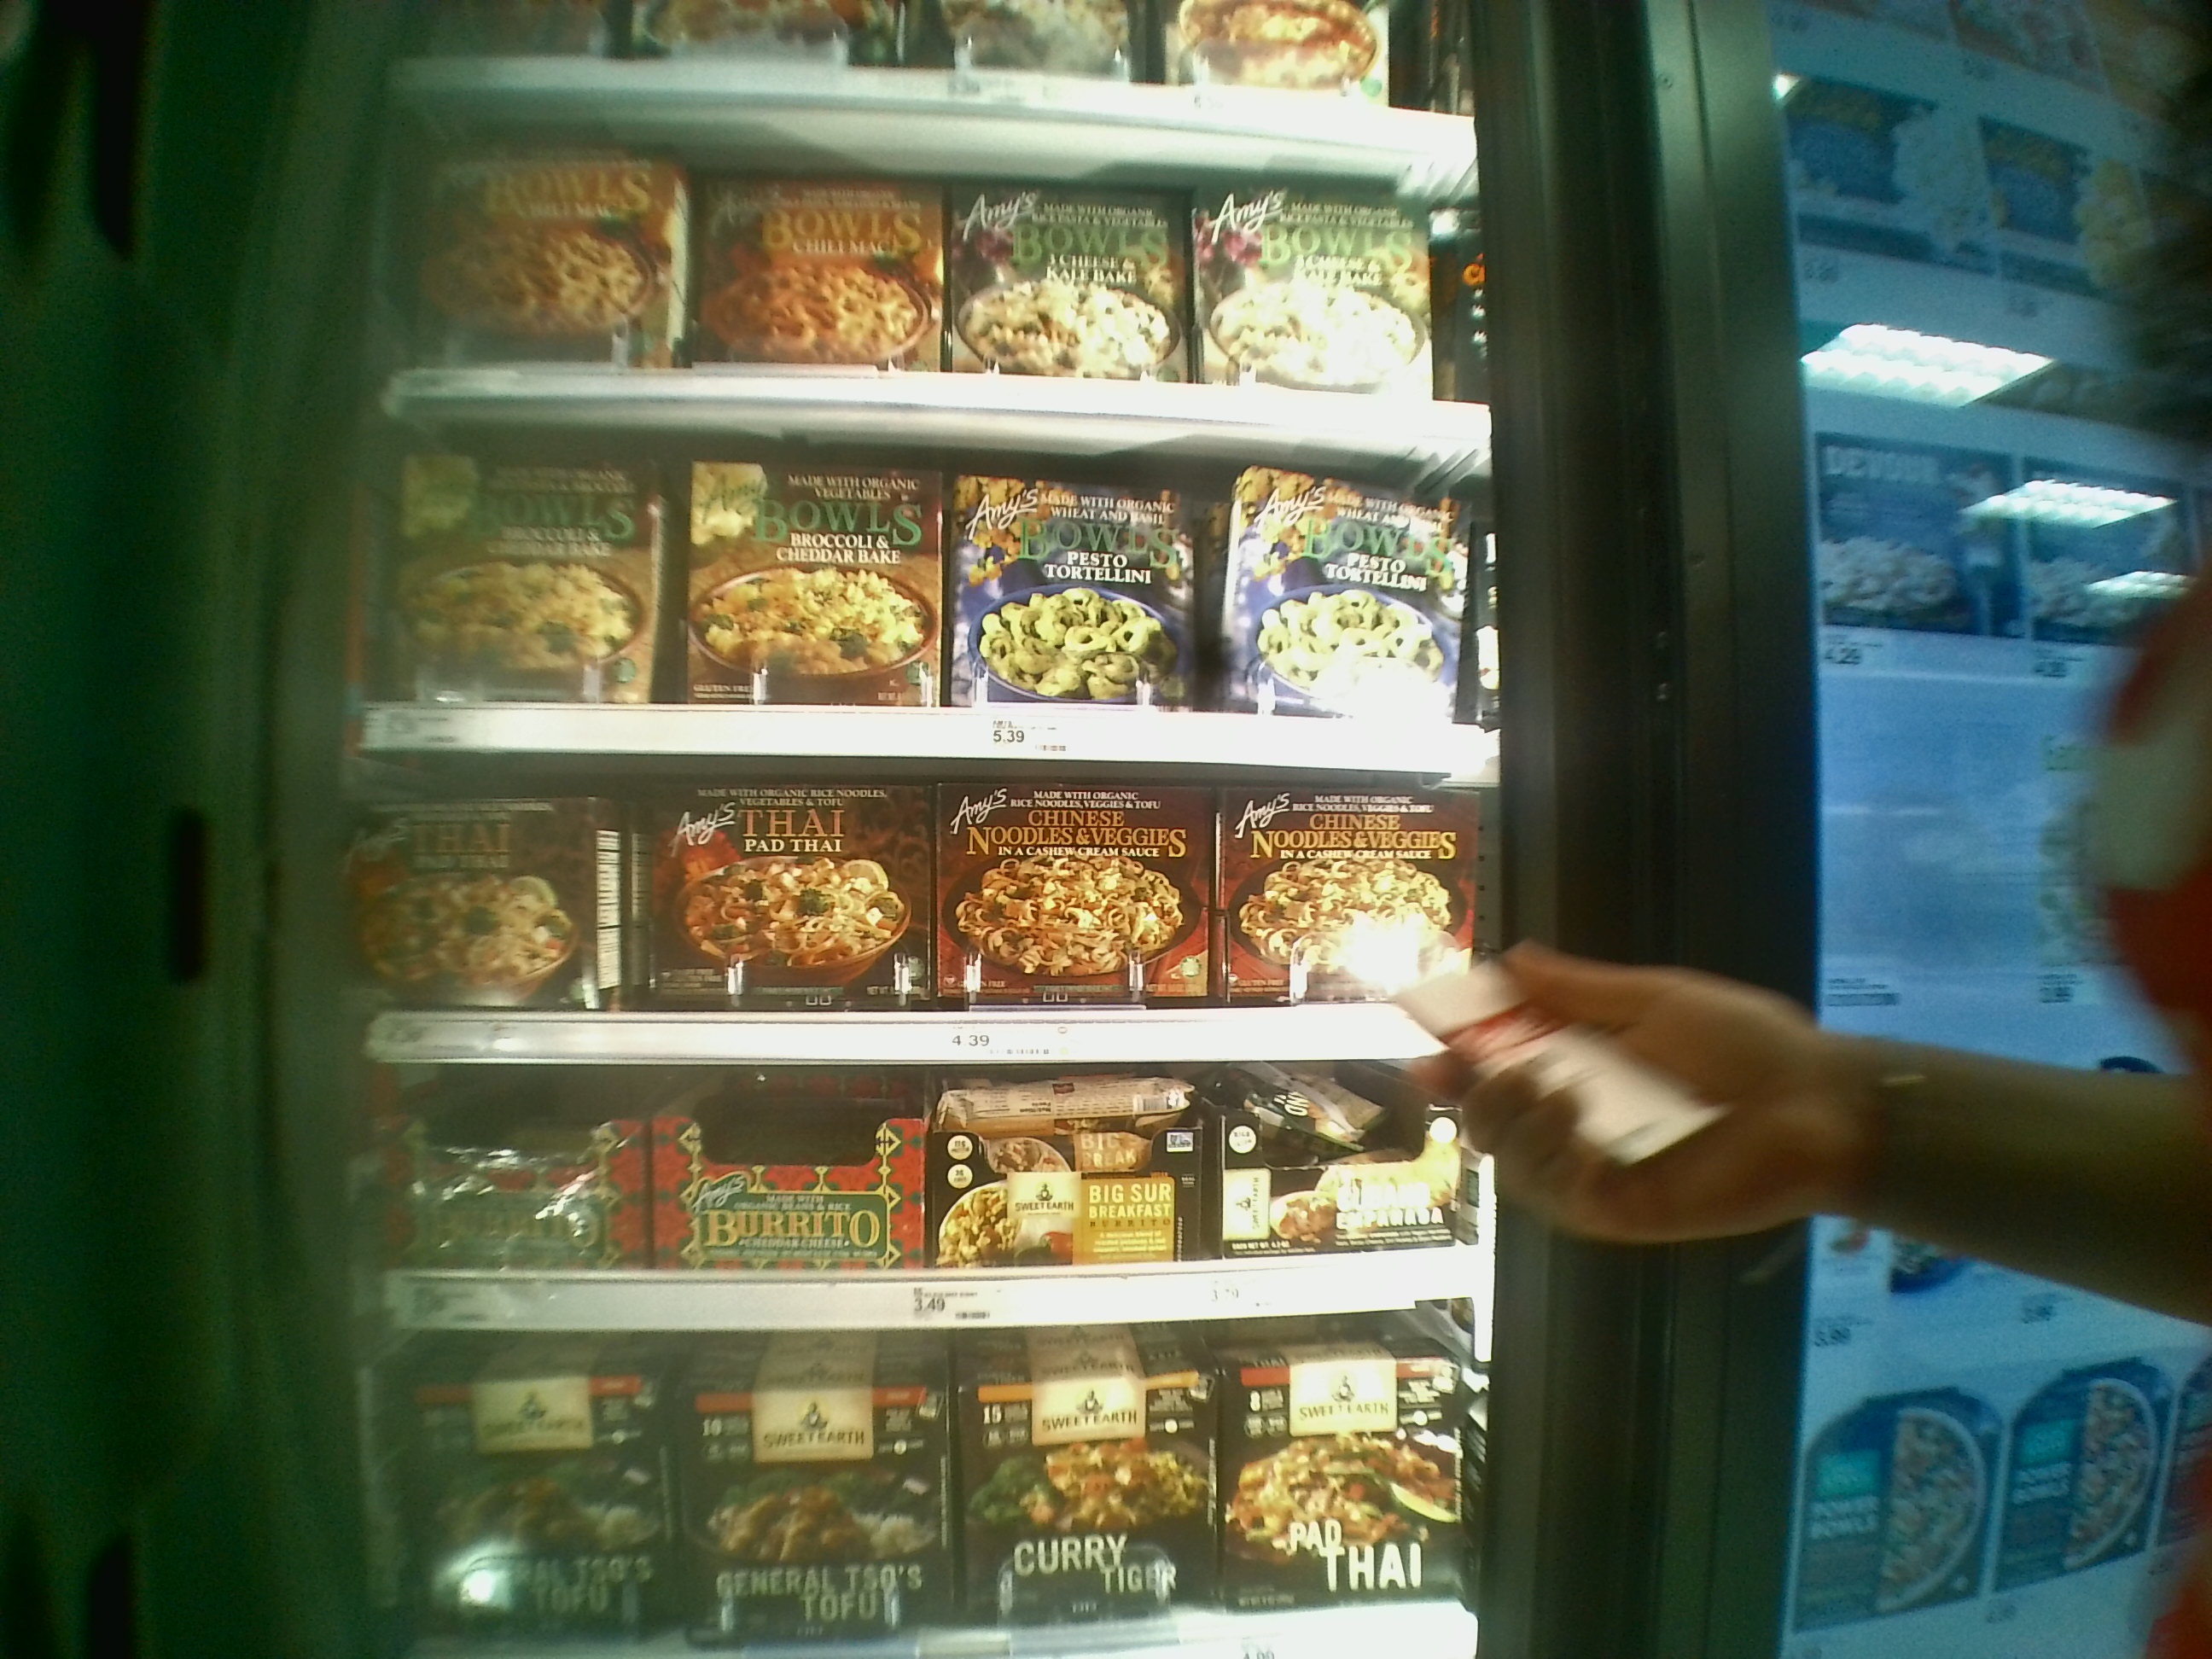frozen-food-shelf: (315, 404, 1510, 772), (308, 772, 1508, 1075), (308, 1075, 1503, 1344)
